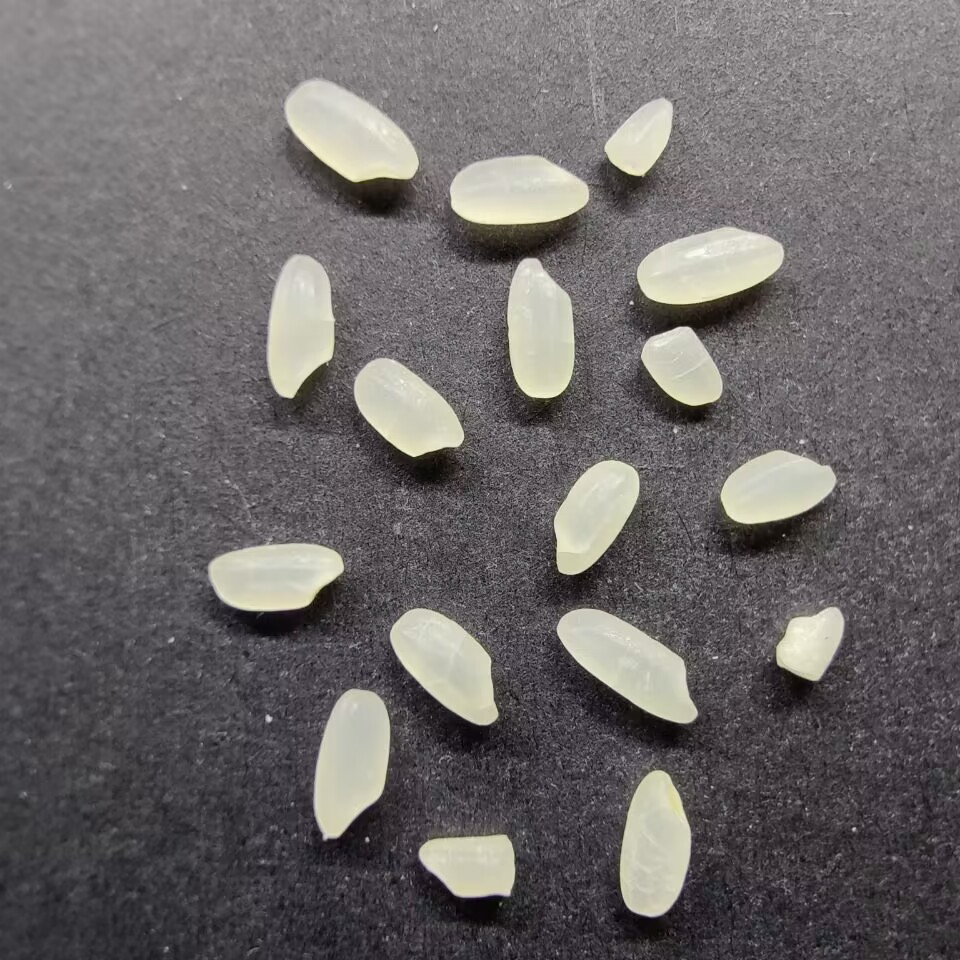broken: (415, 832, 517, 902), (640, 323, 724, 407), (602, 94, 675, 179), (775, 604, 846, 683)
rice: (554, 607, 699, 726), (282, 77, 420, 184), (387, 605, 500, 728), (312, 687, 391, 843), (635, 224, 785, 305), (351, 356, 465, 457), (618, 768, 692, 918), (264, 253, 336, 401), (553, 458, 642, 577), (505, 255, 577, 400), (448, 153, 591, 224), (206, 544, 346, 612), (719, 449, 836, 524)
